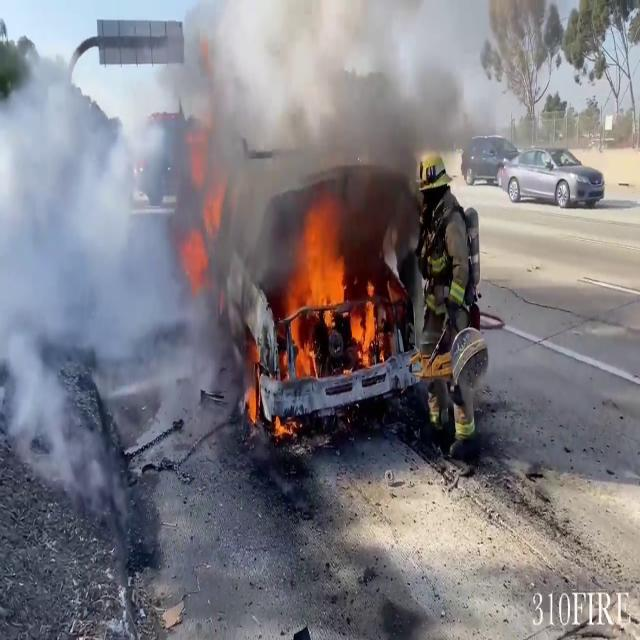Fire: (278, 196, 382, 387)
Smoke: (0, 37, 219, 490), (162, 0, 526, 272)
